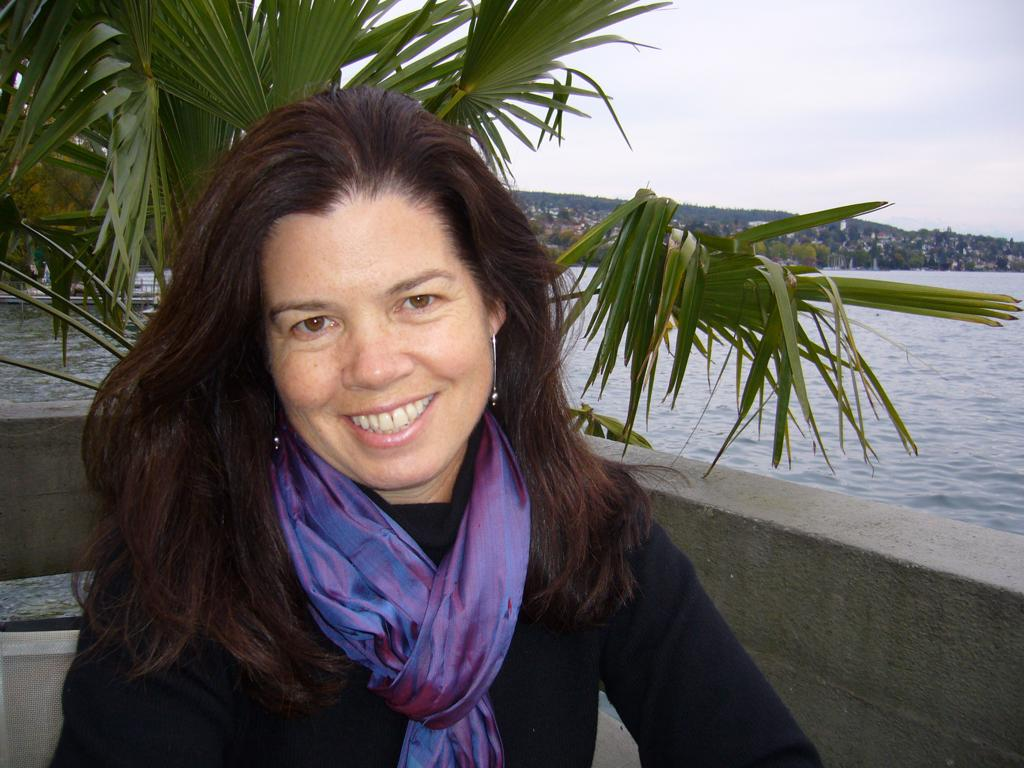face: (268, 208, 498, 490)
